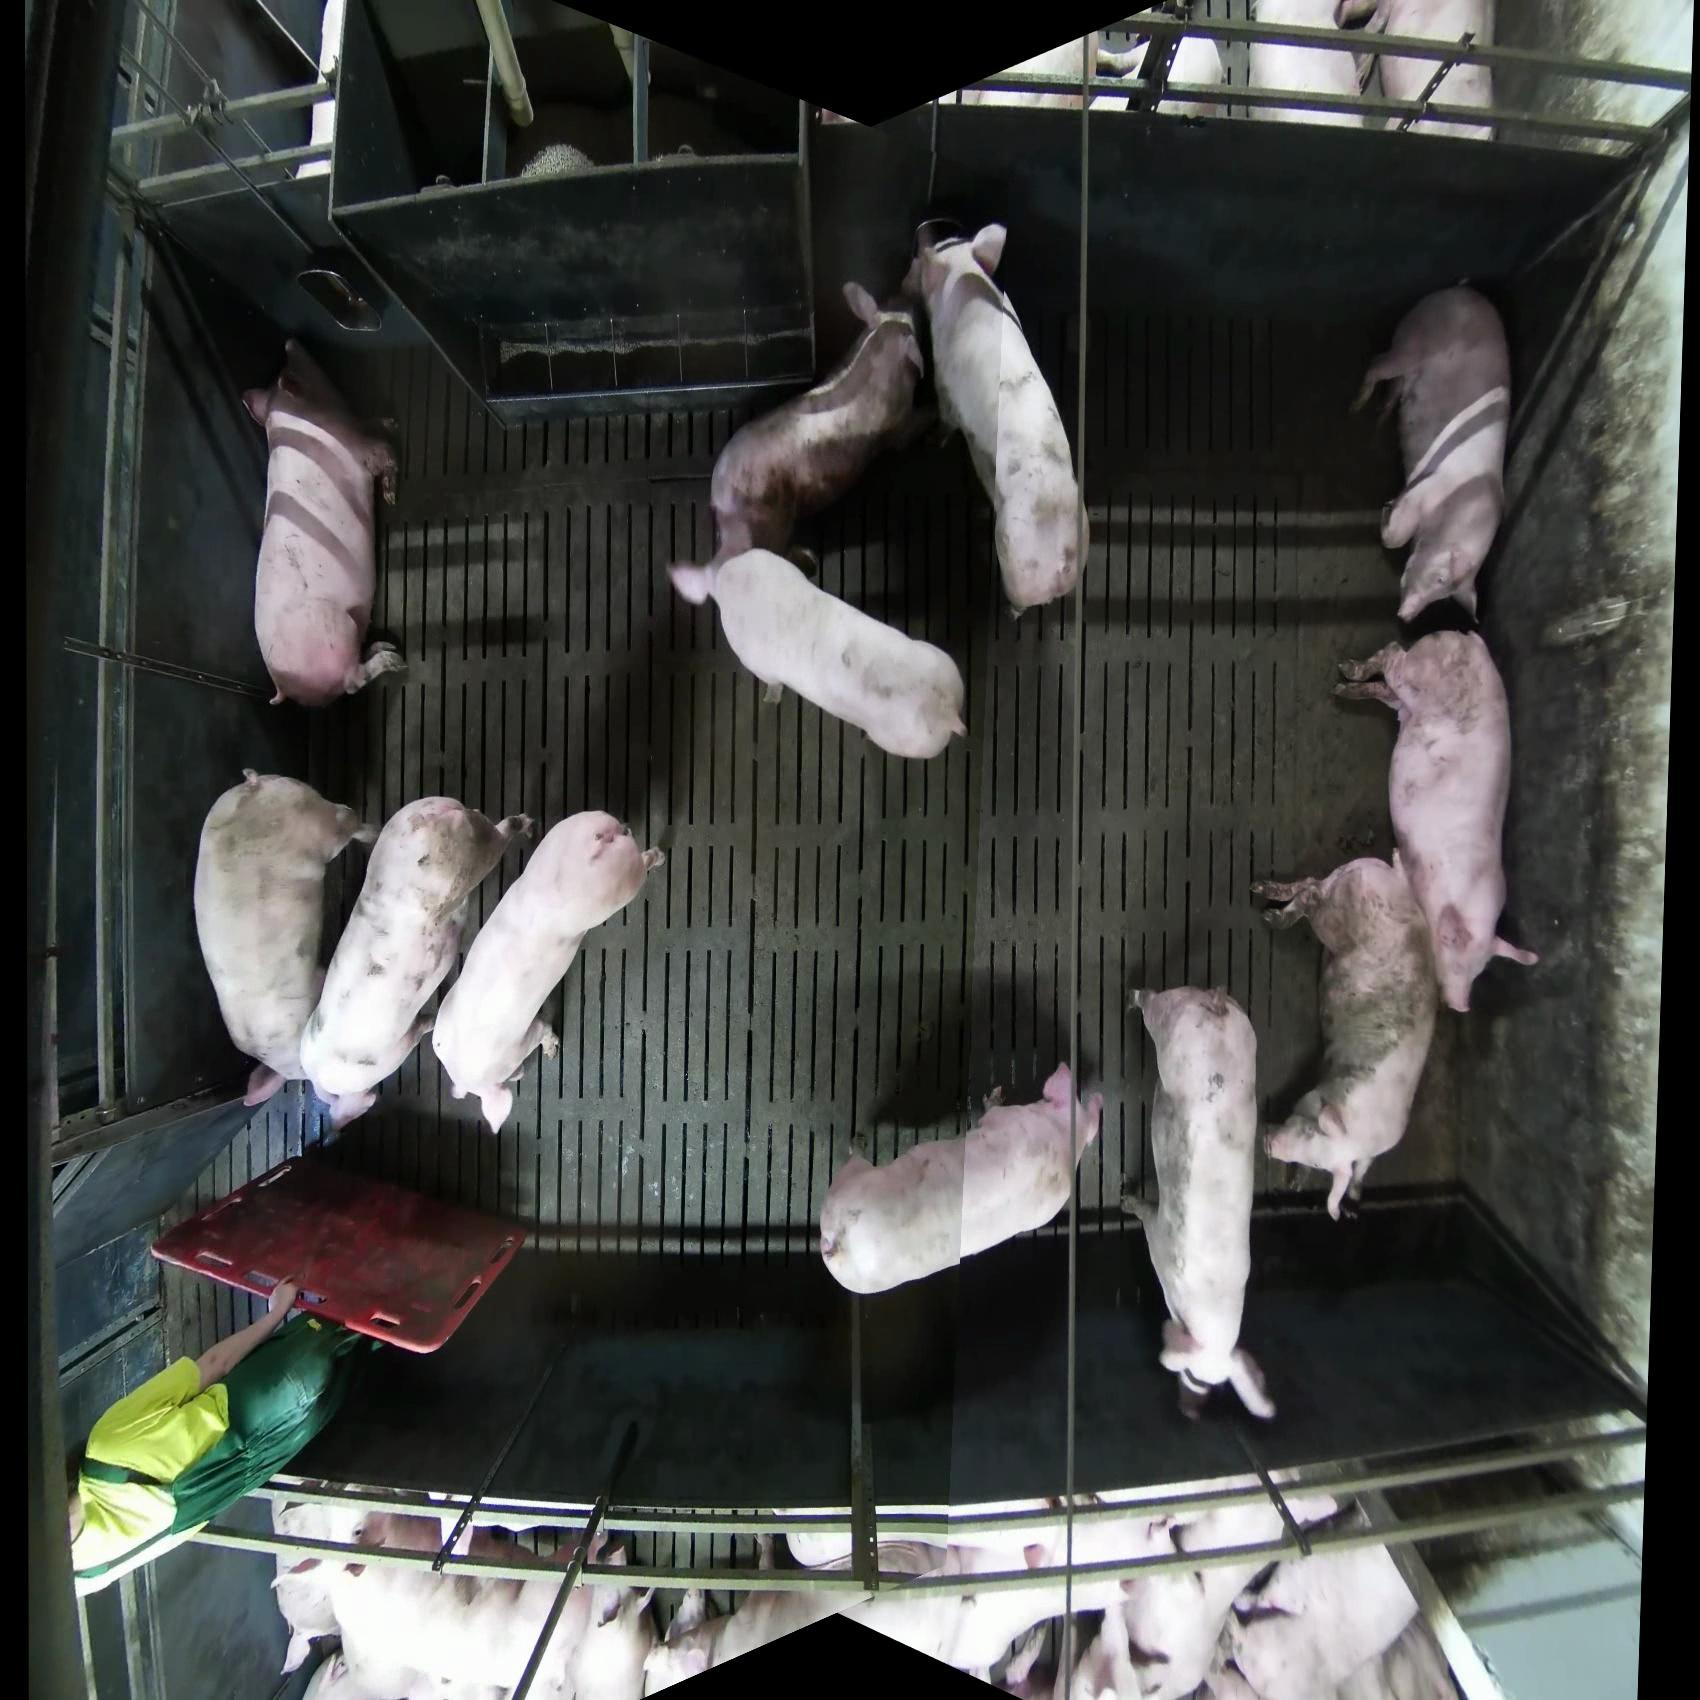pig: (667, 280, 925, 606), (1331, 628, 1540, 1016), (299, 794, 536, 1132), (431, 809, 666, 1135), (271, 1507, 659, 1700), (912, 217, 1090, 621), (1250, 850, 1440, 1224), (1120, 984, 1278, 1424), (817, 1060, 1105, 1297), (192, 768, 377, 1111), (241, 336, 407, 711), (1349, 279, 1514, 626), (710, 546, 969, 762), (1198, 1497, 1462, 1700), (784, 1530, 1053, 1677), (1369, 1, 1498, 141), (1248, 1, 1379, 128), (783, 1530, 1052, 1579)
worker: (67, 1276, 374, 1584)
